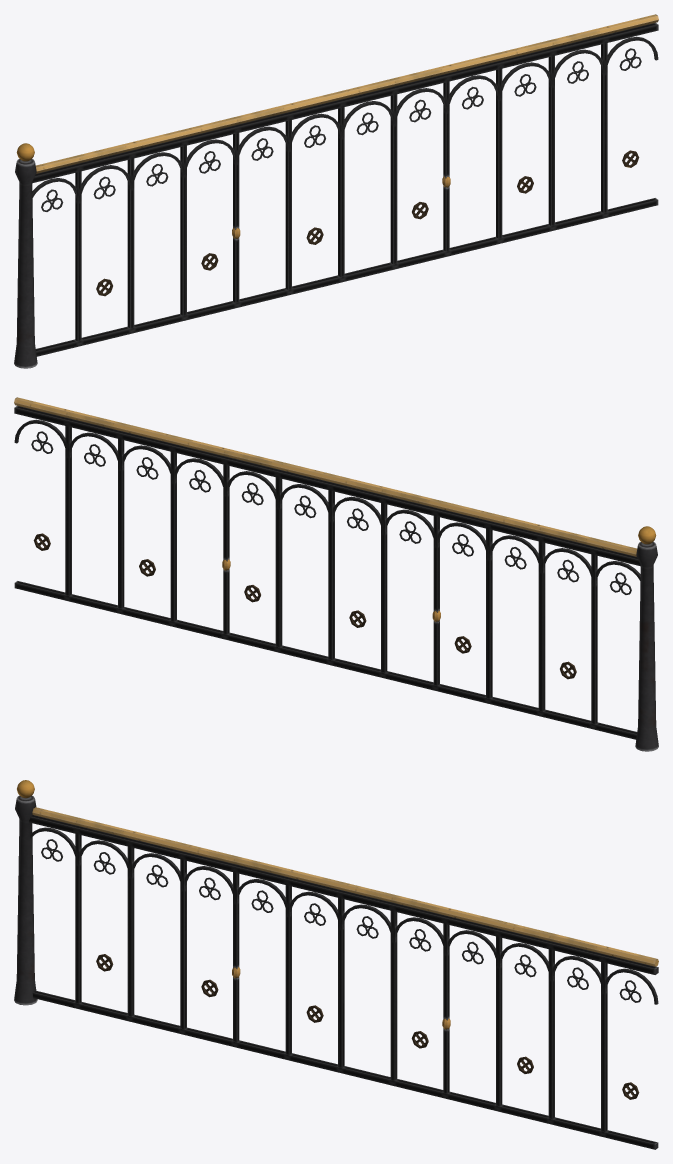
Rendered from StairRailLevel.fbx.
The picture shows the model from 3 angles, top to bottom: view 1: azimuth 30°, elevation 25°; view 2: azimuth 150°, elevation 25°; view 3: azimuth 330°, elevation 25°; orthographic projection.
Visible parts, largest first — view 1: StairRailLevel_Main, StairRailLevel_Post; view 2: StairRailLevel_Main, StairRailLevel_Post; view 3: StairRailLevel_Main, StairRailLevel_Post.
Boxes of the visible parts, box(x1,y1,x2,y2) form: StairRailLevel_Main: box(32, 14, 658, 356); StairRailLevel_Post: box(14, 143, 37, 368); StairRailLevel_Main: box(14, 397, 640, 739); StairRailLevel_Post: box(635, 526, 658, 751); StairRailLevel_Main: box(29, 807, 658, 1149); StairRailLevel_Post: box(14, 780, 37, 1005).
Bounding box in the file's own units: 814 × 266 × 26.
